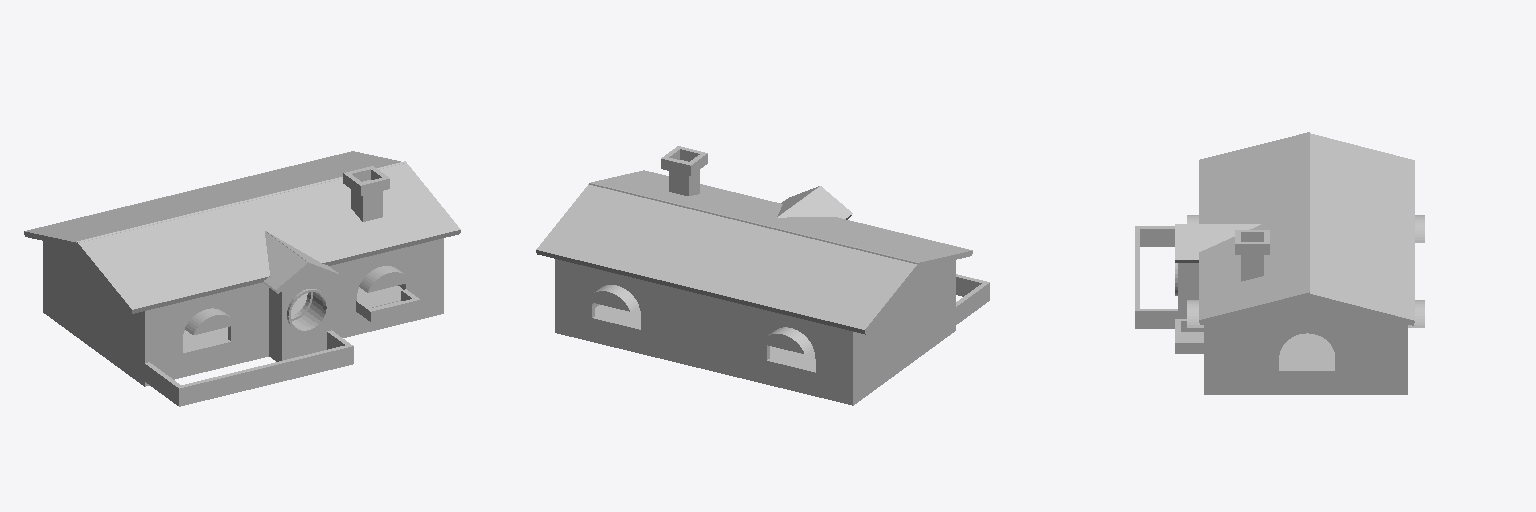
The model's file is SEGUNDO_PISO.obj.
The picture shows the model from 3 angles: view 1: azimuth 30°, elevation 25°; view 2: azimuth 150°, elevation 25°; view 3: azimuth 270°, elevation 25°; orthographic projection.
Visible parts, largest first — view 1: Segundo_piso; view 2: Segundo_piso; view 3: Segundo_piso.
Part boxes in pixels (x1,y1,x2,y2): Segundo_piso: (24, 151, 460, 406); Segundo_piso: (536, 146, 989, 405); Segundo_piso: (1135, 132, 1424, 394).
Size of the model in its own units: 13.2 by 5.1 by 10.1.